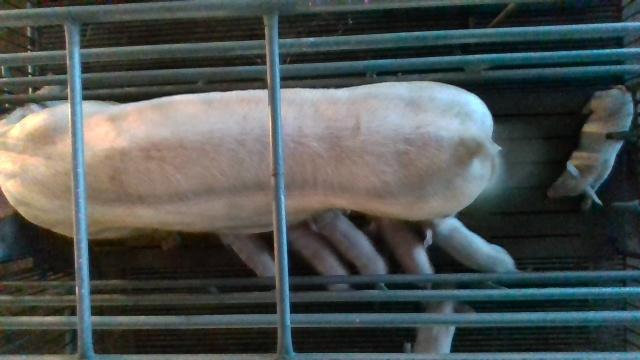piglet: (547, 85, 634, 210), (306, 209, 389, 290), (404, 267, 475, 354), (363, 213, 435, 288), (421, 217, 516, 272), (287, 226, 349, 291), (221, 233, 275, 277)
sow-stand-feed: (1, 82, 508, 240)
